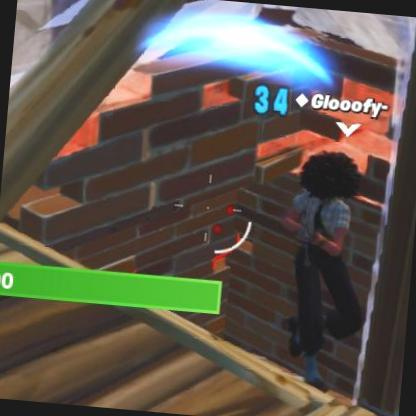person: (264, 144, 378, 404)
